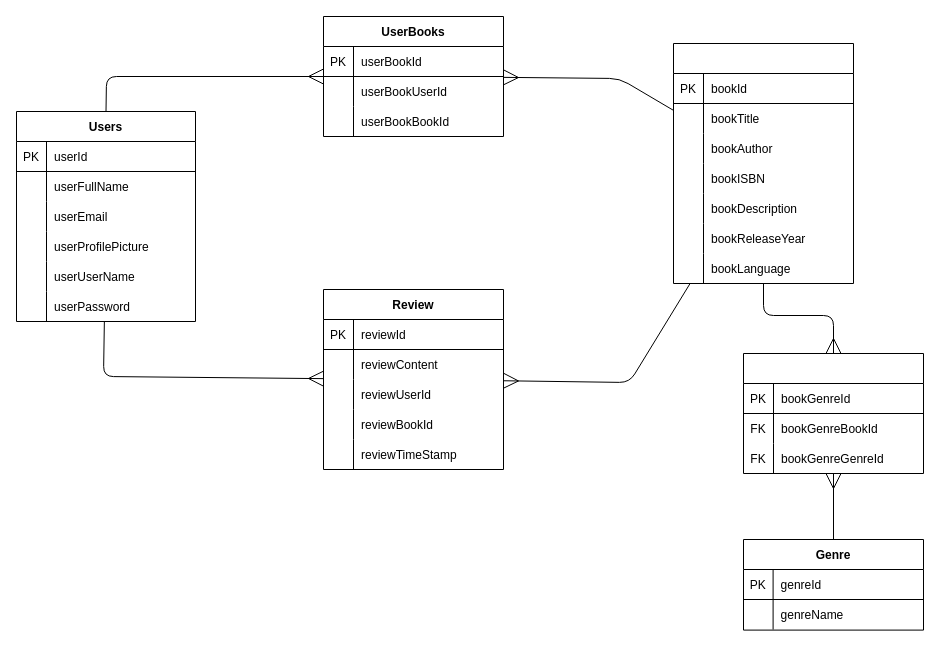
The diagram is 940 pixels wide and 647 high, and some of its shapes have lost their labels. Each missing label, with the box of its shape:
BookGenres: (742, 352, 924, 474)
Books: (672, 42, 854, 284)
